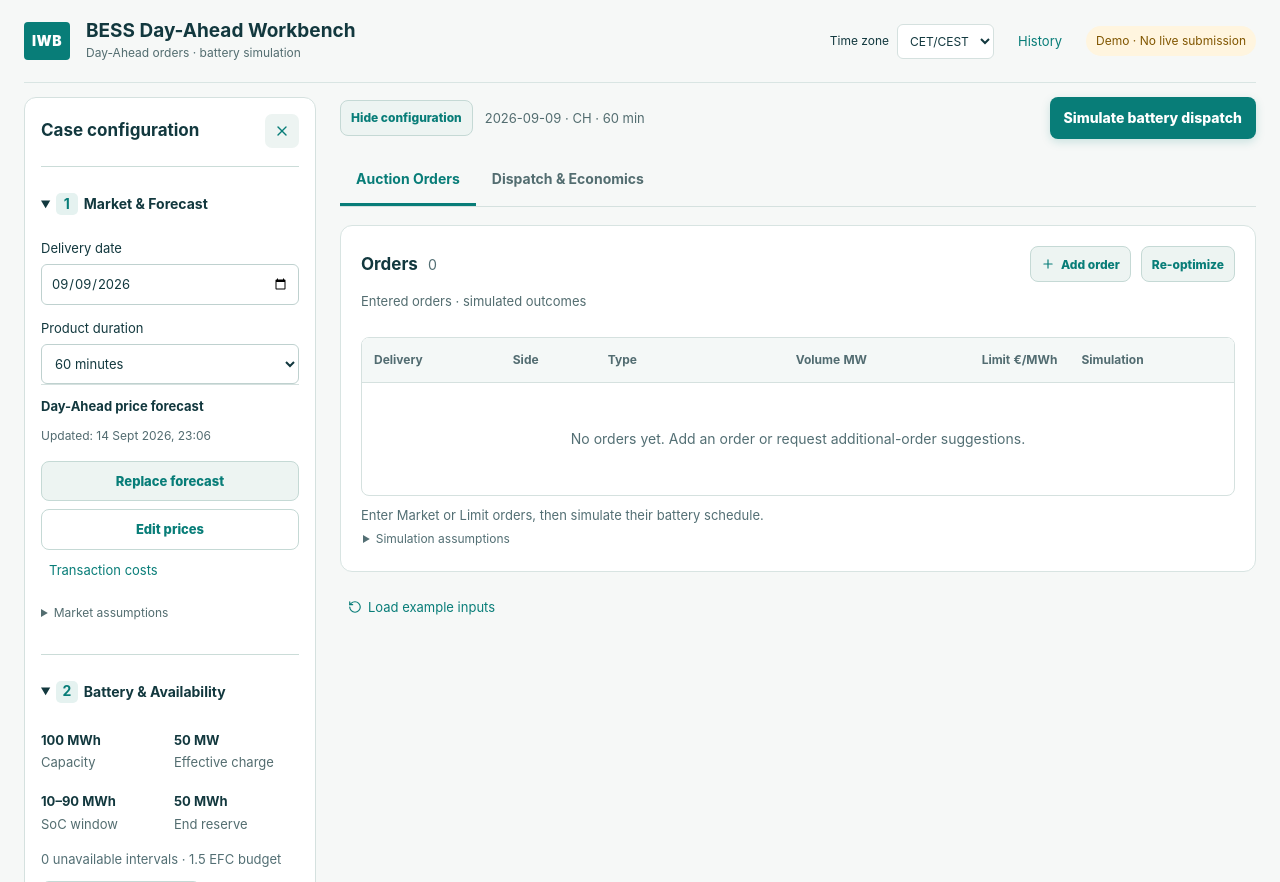
it: OrderSimulatorWorkbench › keeps battery labels stable and associates validation descriptions
Expected: the button "Replace forecast" is shown, [41,460,299,501]
Click the button "Load example inputs" at x=422, y=607, box [340,590,503,625]
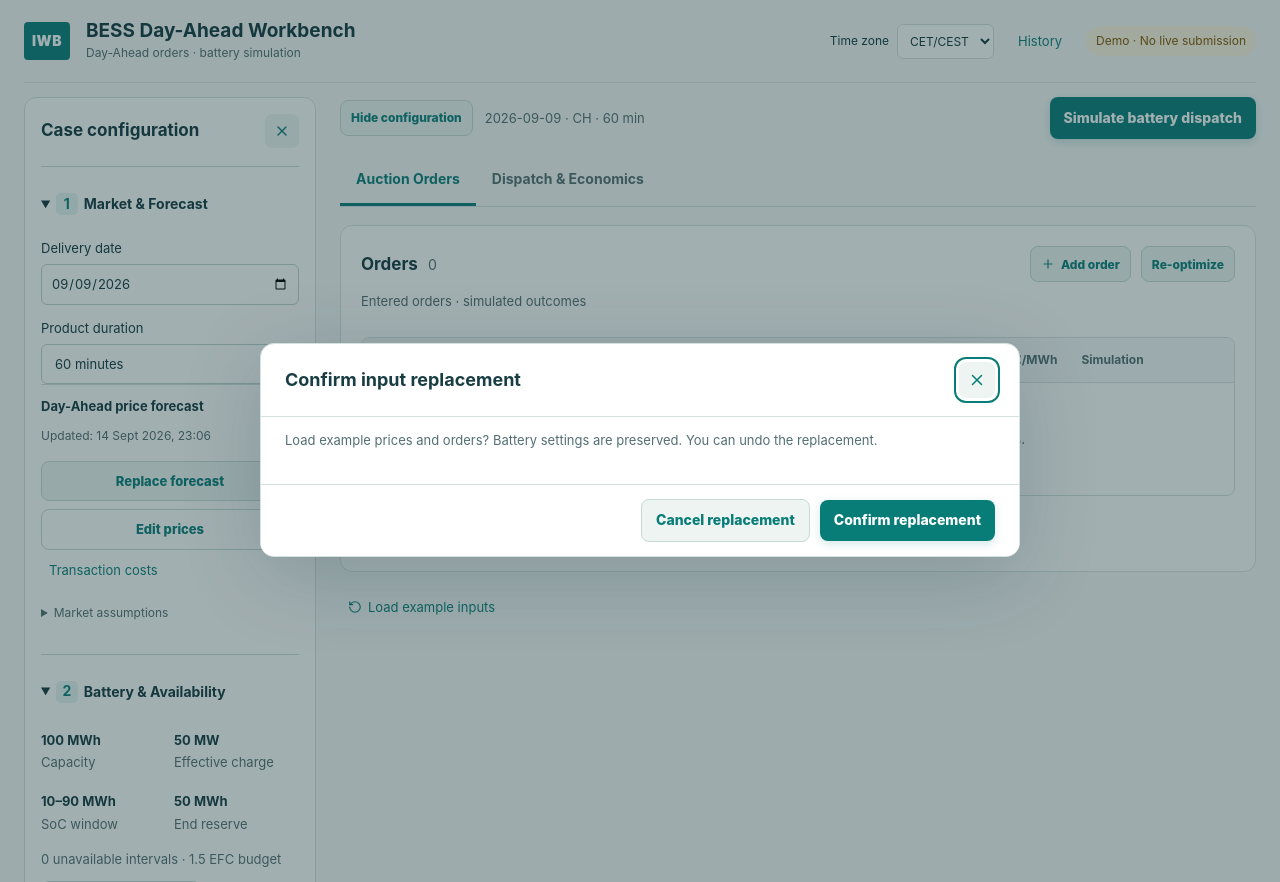
Click the button "Confirm replacement" at x=907, y=520, box [820,500,995,541]
(page scrolled)
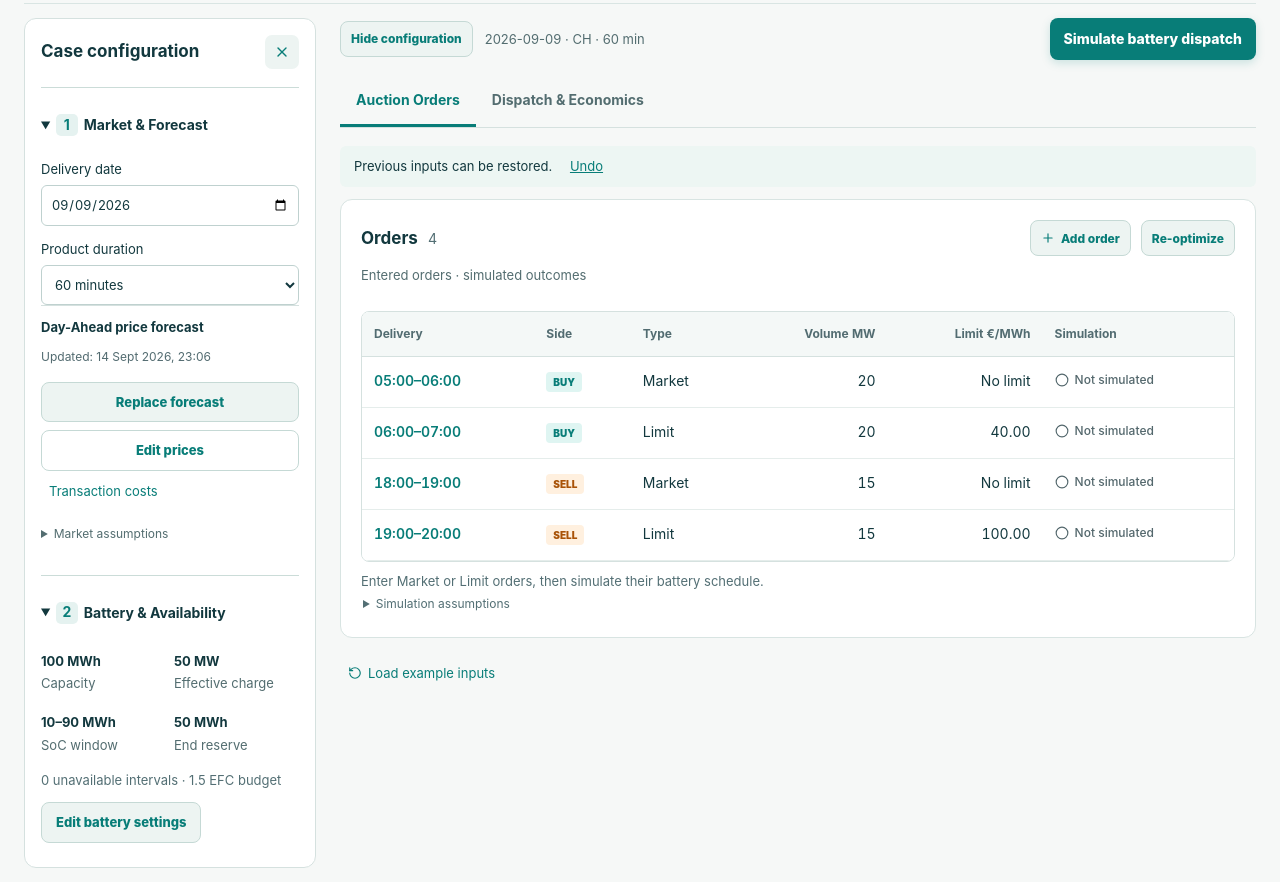
Expected: the button named "Edit 05:00–06:00 BUY order" is shown, [374,368,461,396]
Click the button "Edit battery settings" at x=121, y=823, box [41,802,201,843]
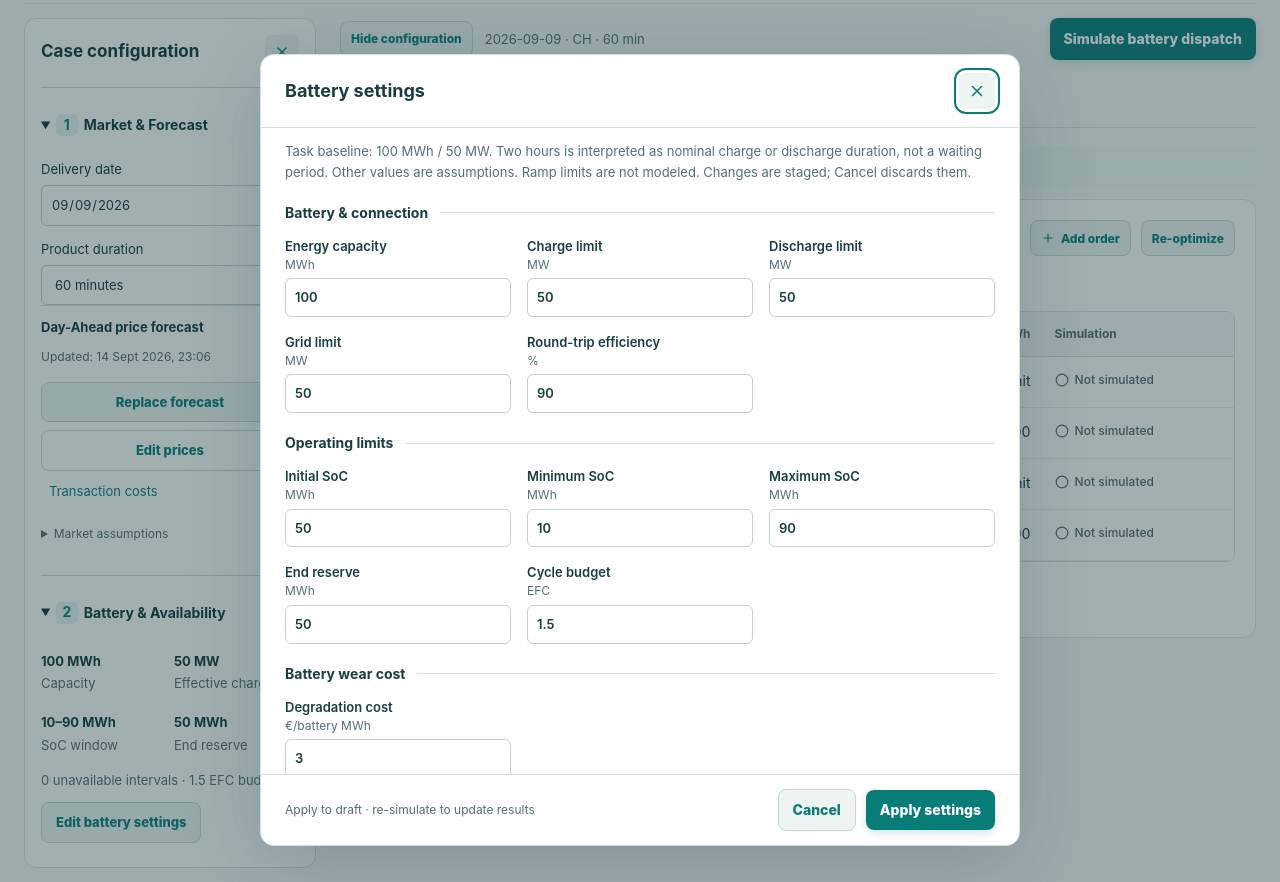
Replace the text in the number field labelled "Charge limit MW" with "-1" at x=640, y=298, box [527,278,753,317]
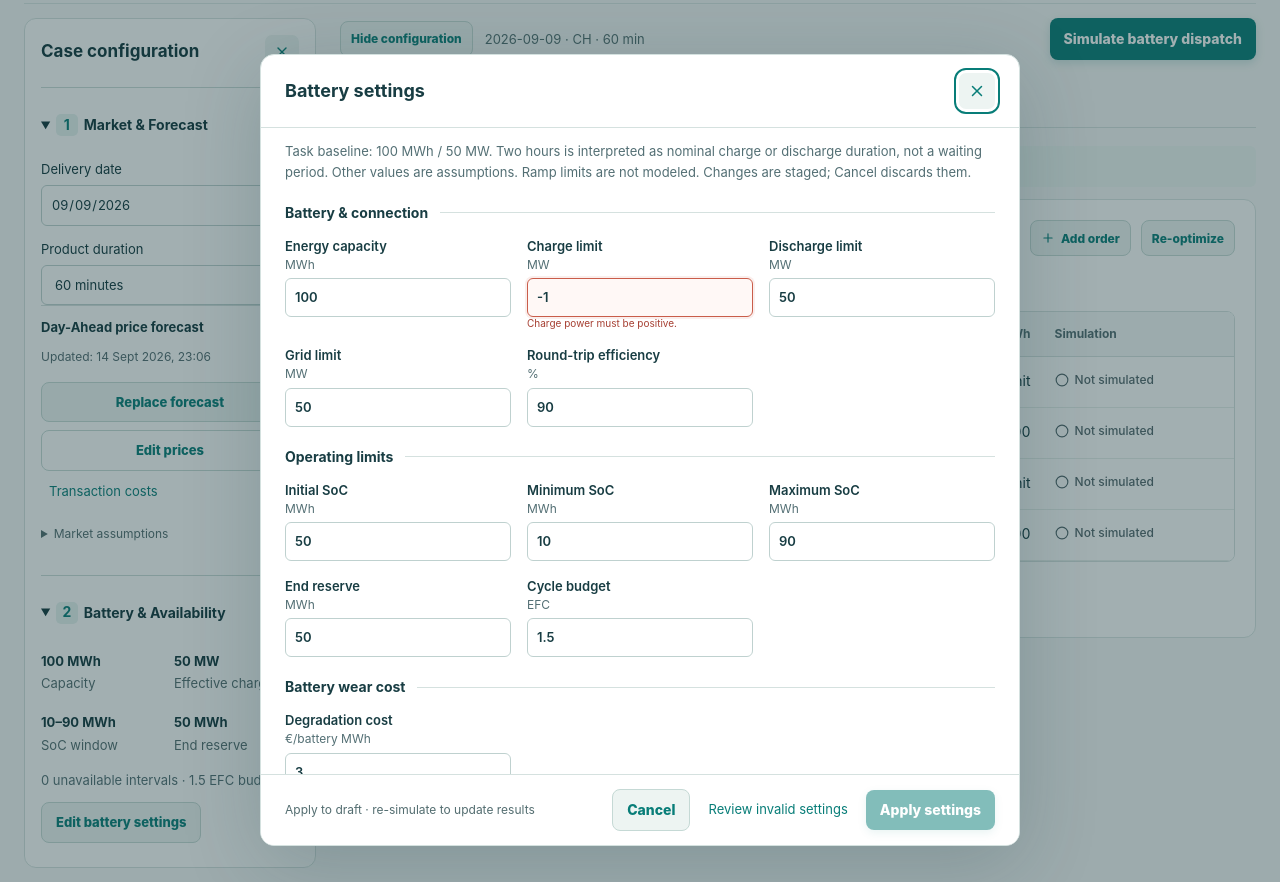
Expected: the button "Apply settings" is disabled, [866,790,995,830]
Replace the text in the number field labelled "Charge limit MW" with "50" at x=640, y=298, box [527,278,753,317]
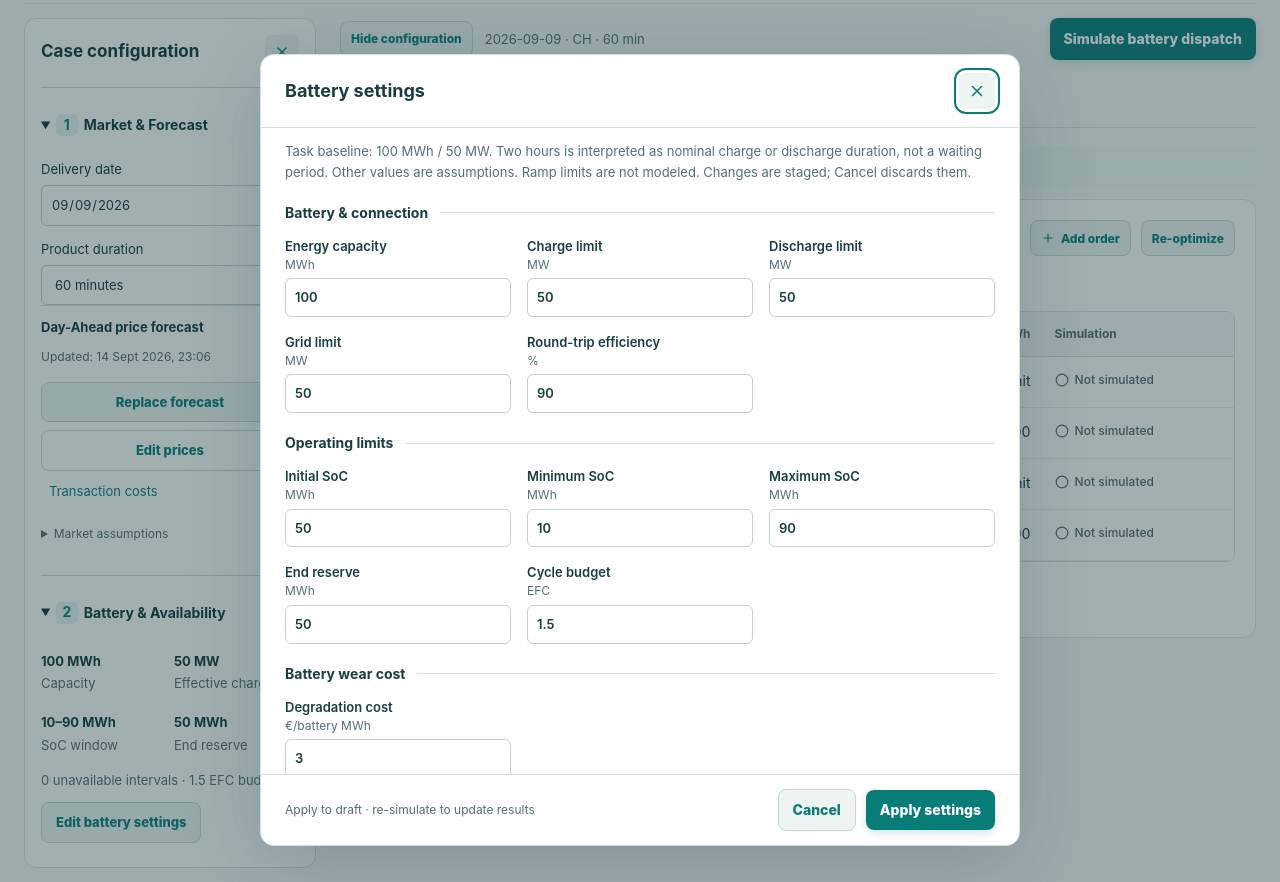
Expected: the button "Apply settings" is enabled, [866,790,995,830]
